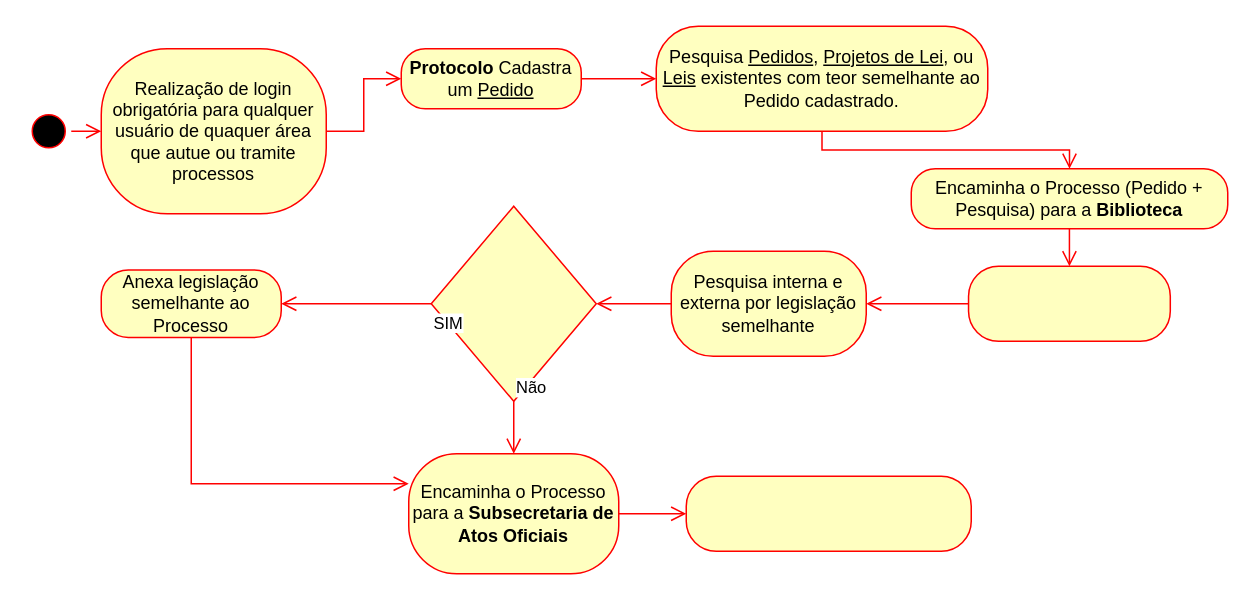
The diagram is 1254 pixels wide and 600 high, and some of its shapes have lost their labels. Each missing label, with the box of its shape:
Biblioteca registra o recebimento do processo: (967, 265, 1170, 341)
Encontrou legislação semelhante?: (430, 205, 596, 401)
Início: (25, 107, 71, 154)
Subsecretaria de Atos Oficiais registra o recebimento do processo: (685, 475, 971, 551)
